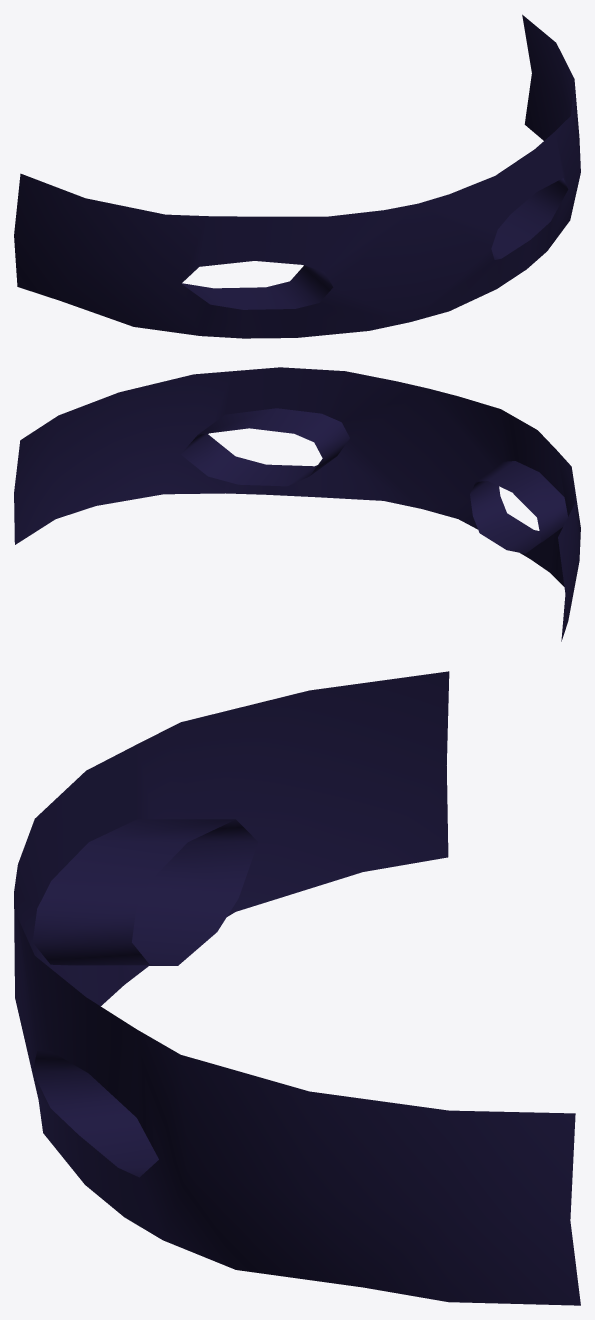
The model's file is ForwardBand.fbx.
3 renders of one model, top to bottom at view 1: azimuth 30°, elevation 25°; view 2: azimuth 150°, elevation 25°; view 3: azimuth 270°, elevation 25°, orthographic. The views are drawn at different scales.
Parts seen in each view (by area): view 1: Headband; view 2: Headband; view 3: Headband.
Part boxes in pixels (bbox=[...]): Headband: bbox=[14, 14, 580, 338]; Headband: bbox=[14, 367, 580, 641]; Headband: bbox=[14, 671, 580, 1305].
Size of the model in its own units: 61.63 by 13.83 by 32.47.
